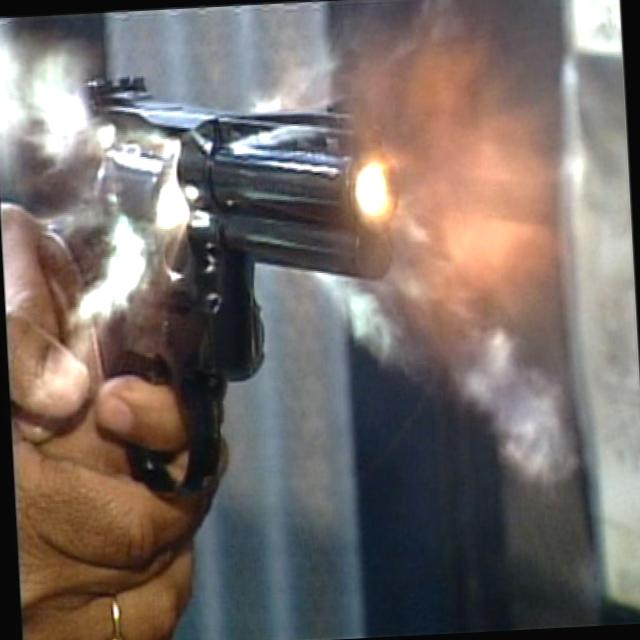handgun: (18, 56, 414, 503)
